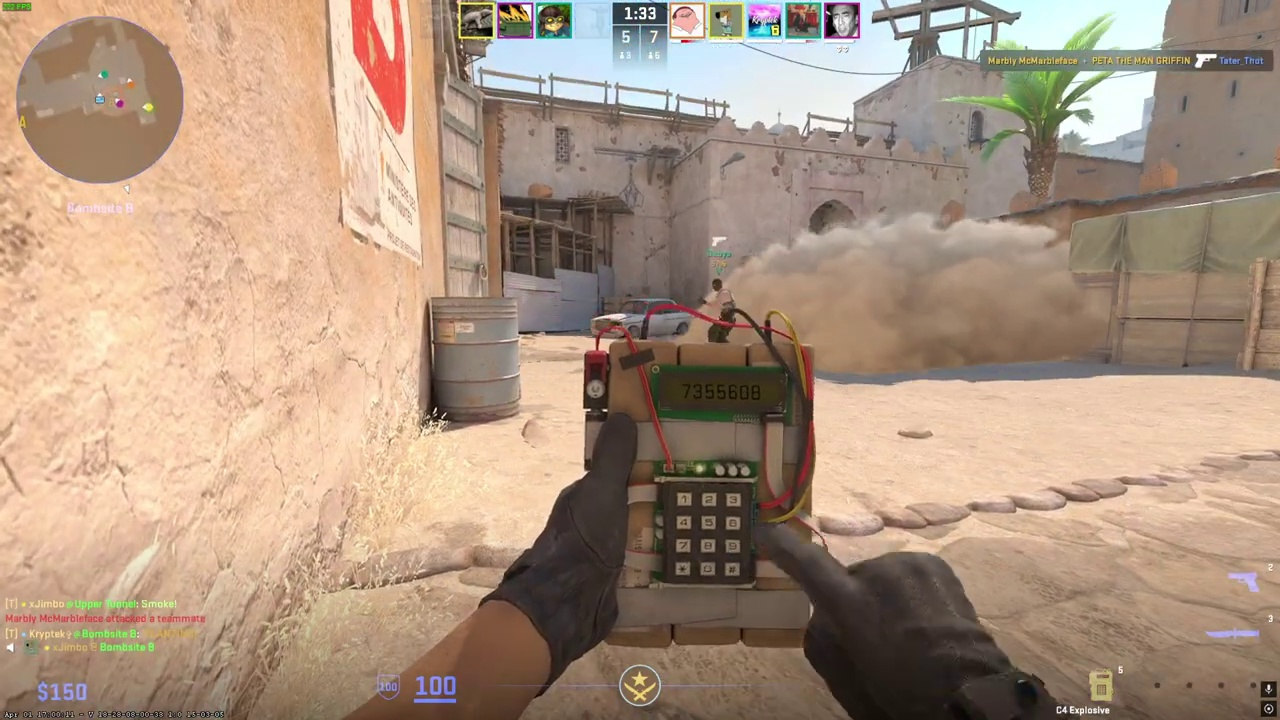Terrorist: (703, 277, 738, 344)
